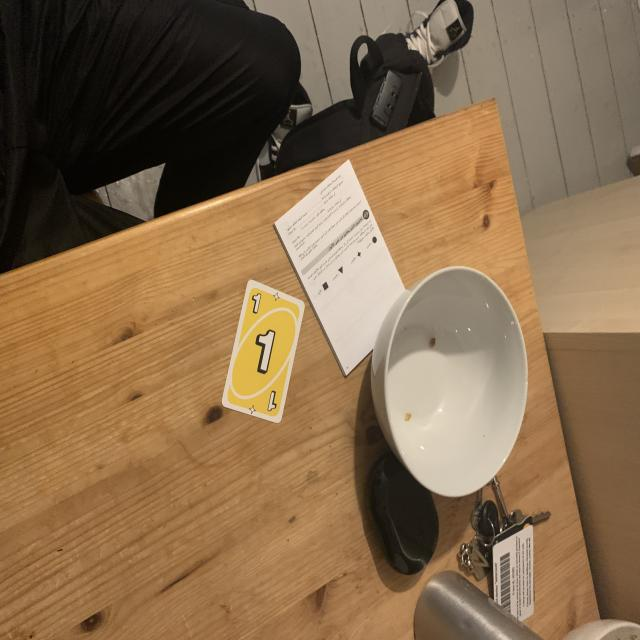lyellow-1: (248, 289, 264, 318)
